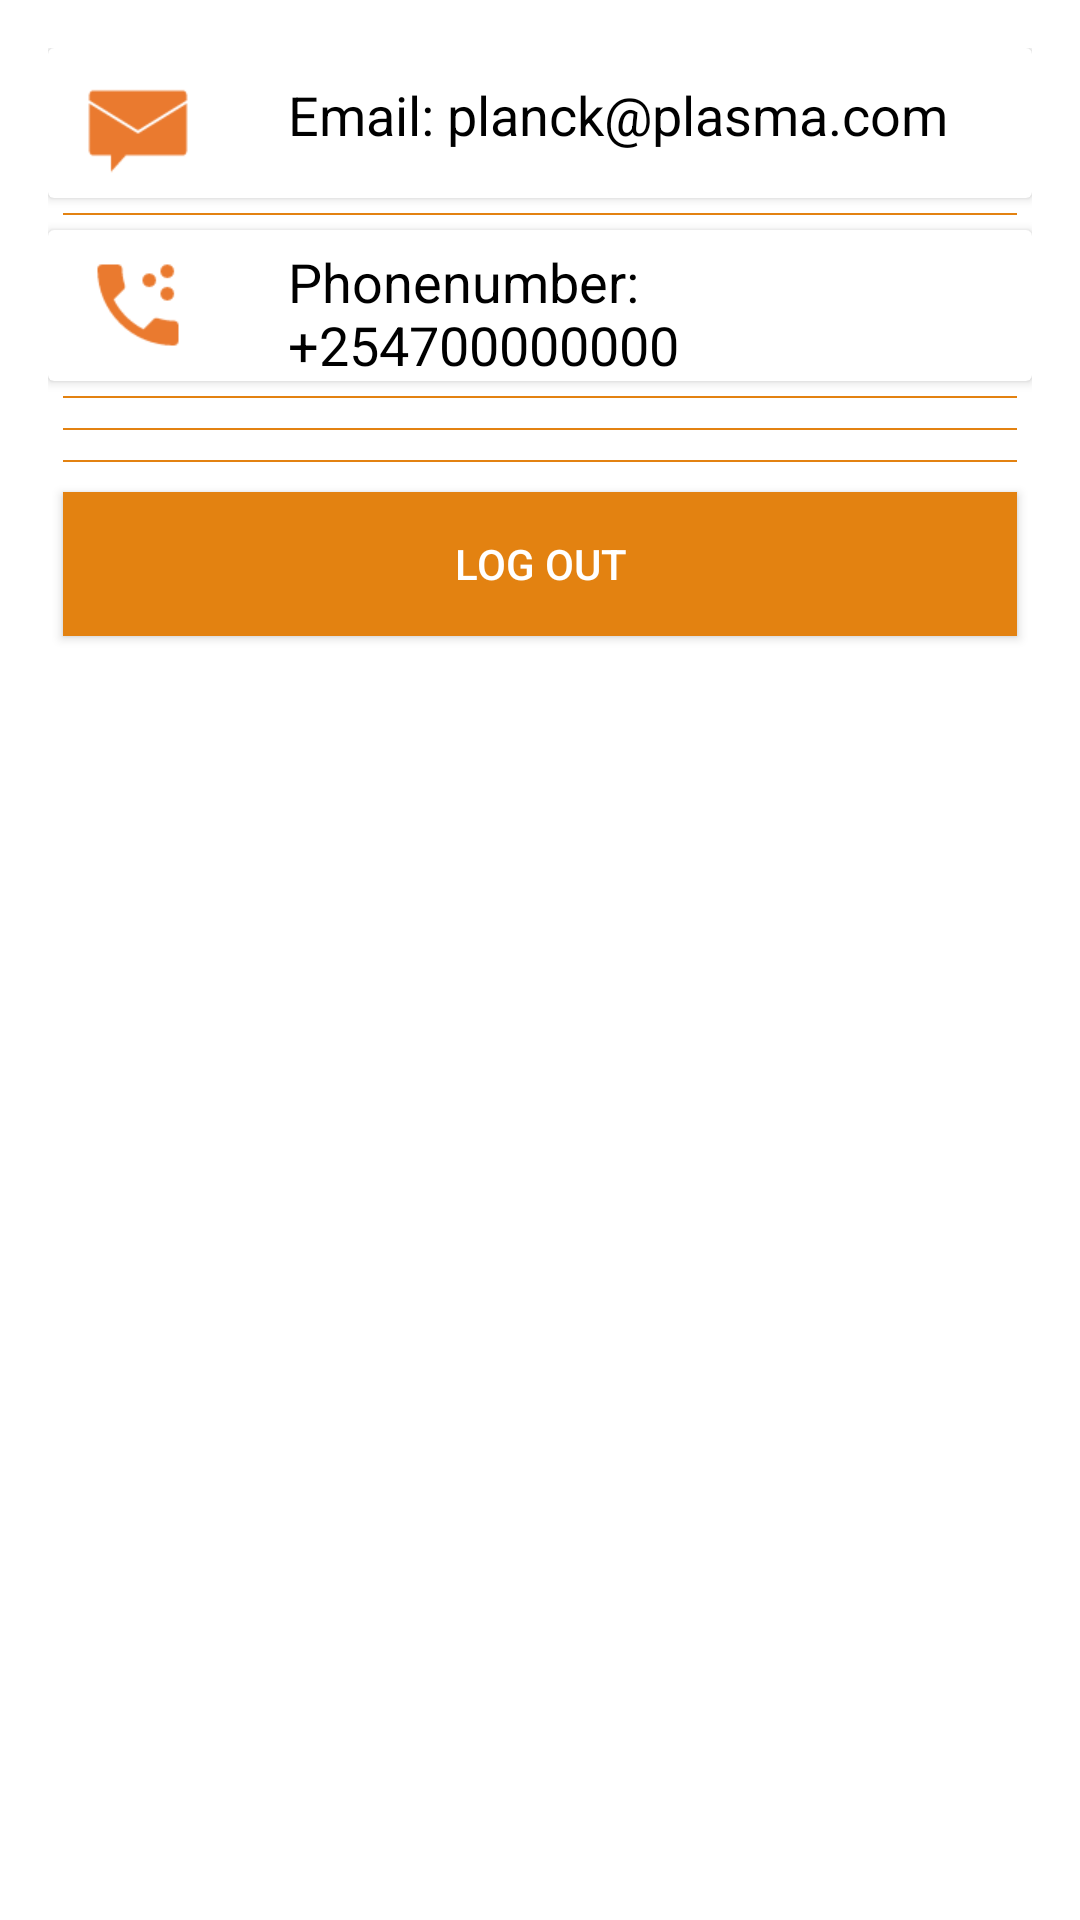

Icons on this 1080 × 1920 Android screen, each with the point to tap as (x=x, y=y):
callagent: (x=138, y=305)
icoemail: (x=138, y=131)
